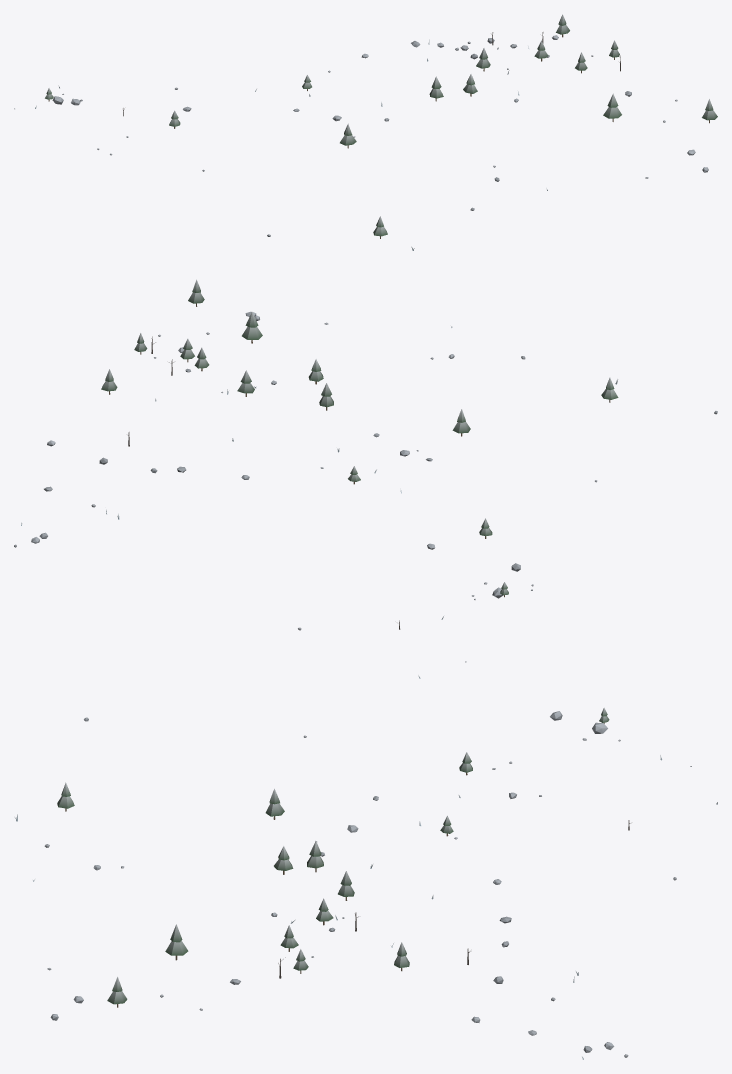
The model's file is frost_land_scatter_c20_09_lod1.glb.
3 views of the same model, one above another, from view 1: azimuth 30°, elevation 25°; view 2: azimuth 150°, elevation 25°; view 3: azimuth 270°, elevation 25° (orthographic). The views are drawn at different scales.
Visible parts, largest first — view 1: frost_land_scatter_c20_09_lod1; view 2: frost_land_scatter_c20_09_lod1; view 3: frost_land_scatter_c20_09_lod1.
Part boxes in pixels (x1,y1,x2,y2): frost_land_scatter_c20_09_lod1: (14,14,717,250); frost_land_scatter_c20_09_lod1: (14,279,717,678); frost_land_scatter_c20_09_lod1: (14,707,717,1059).
Size of the model in its own units: 251 by 52.07 by 253.
